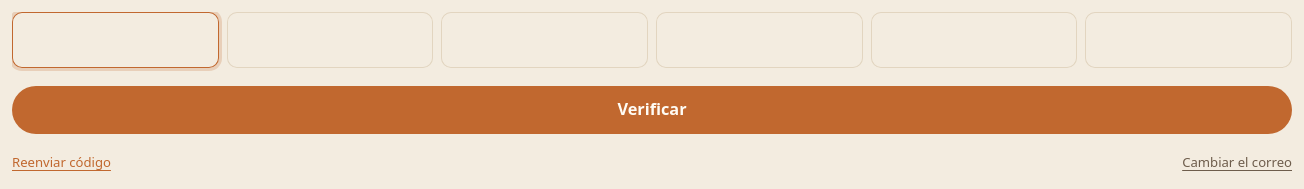
Scenario: VerifyForm › resets the countdown and clears the typed digits after a successful resend
The width and height of the screenshot is (1304, 189).
Step 1. Type "1" into the field named "Dígito 1 de 6" → [115, 40], box [12, 12, 219, 68]
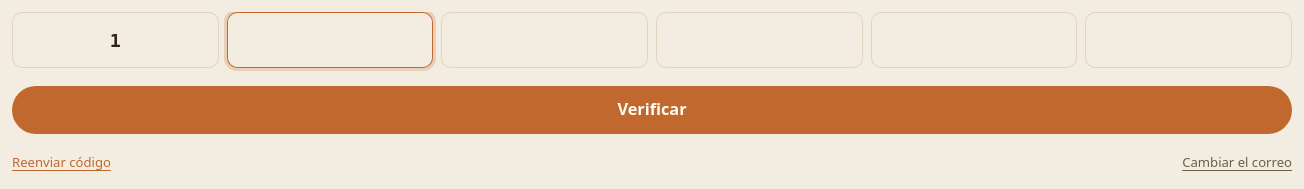
Step 2. Type "2" into the field named "Dígito 2 de 6" → [330, 40], box [227, 12, 433, 68]
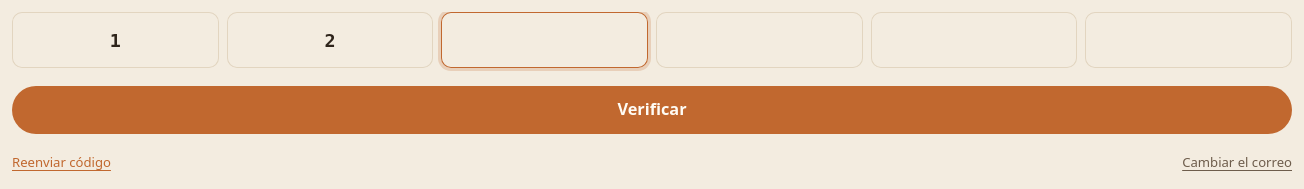
Step 3. Type "3" into the field named "Dígito 3 de 6" → [545, 40], box [441, 12, 648, 68]
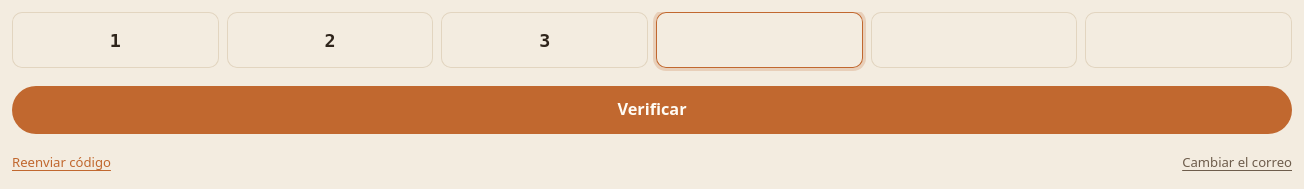
Step 4. Type "4" into the field named "Dígito 4 de 6" → [759, 40], box [656, 12, 863, 68]
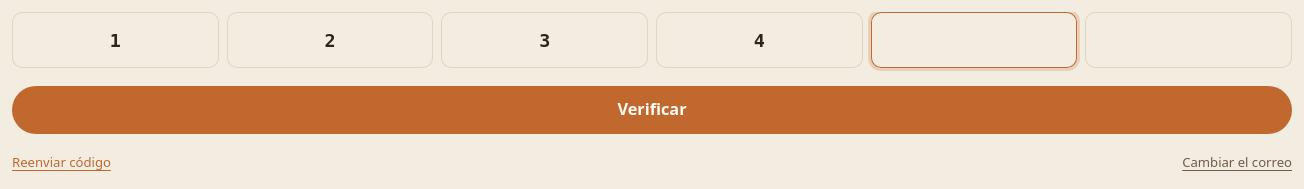
Step 5. Type "5" into the field named "Dígito 5 de 6" → [974, 40], box [871, 12, 1077, 68]
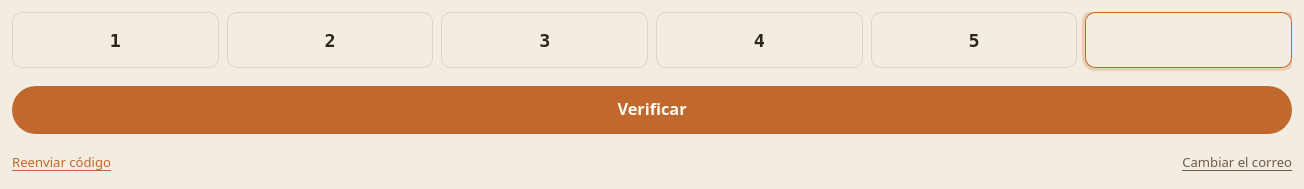
Step 6. Type "6" into the field named "Dígito 6 de 6" → [1189, 40], box [1085, 12, 1292, 68]
Step 7. Click the button "Reenviar código" → [61, 162], box [12, 152, 111, 172]
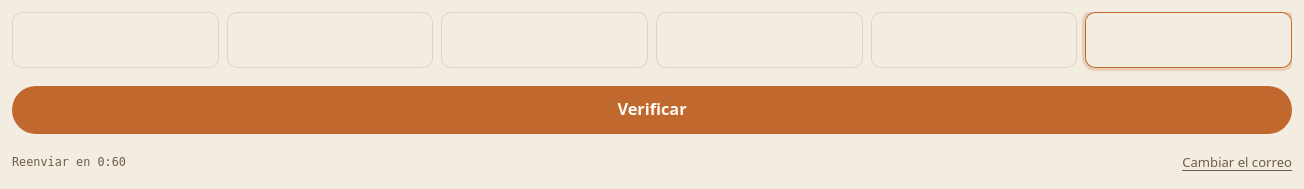
Expected: the text "Reenviar en 0:60" is shown, [12, 153, 126, 171]
